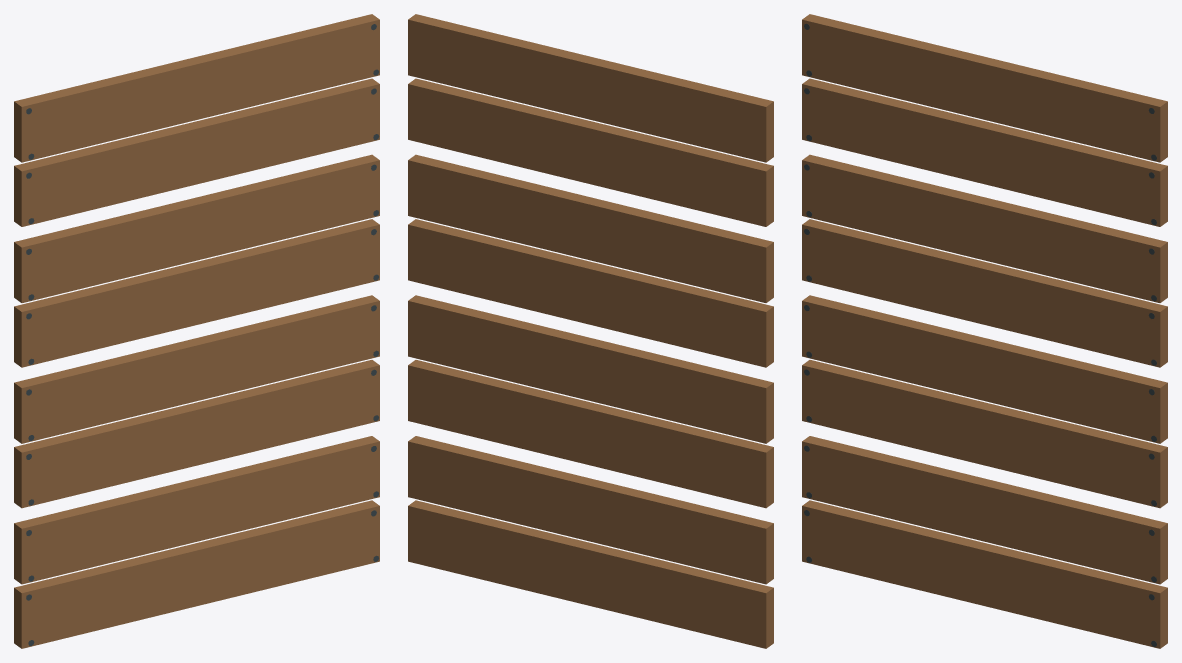
The model's file is WindowAcc_Planks.fbx.
3 renders of one model, left to right at view 1: azimuth 30°, elevation 25°; view 2: azimuth 150°, elevation 25°; view 3: azimuth 330°, elevation 25°, orthographic.
Parts seen in each view (by area): view 1: WindowAcc_Planks; view 2: WindowAcc_Planks; view 3: WindowAcc_Planks.
Part boxes in pixels (x1,y1,x2,y2): WindowAcc_Planks: (14, 14, 379, 648); WindowAcc_Planks: (408, 14, 773, 648); WindowAcc_Planks: (802, 14, 1167, 648).
Bounding box in the file's own units: 63.98 × 92.51 × 2.77.
